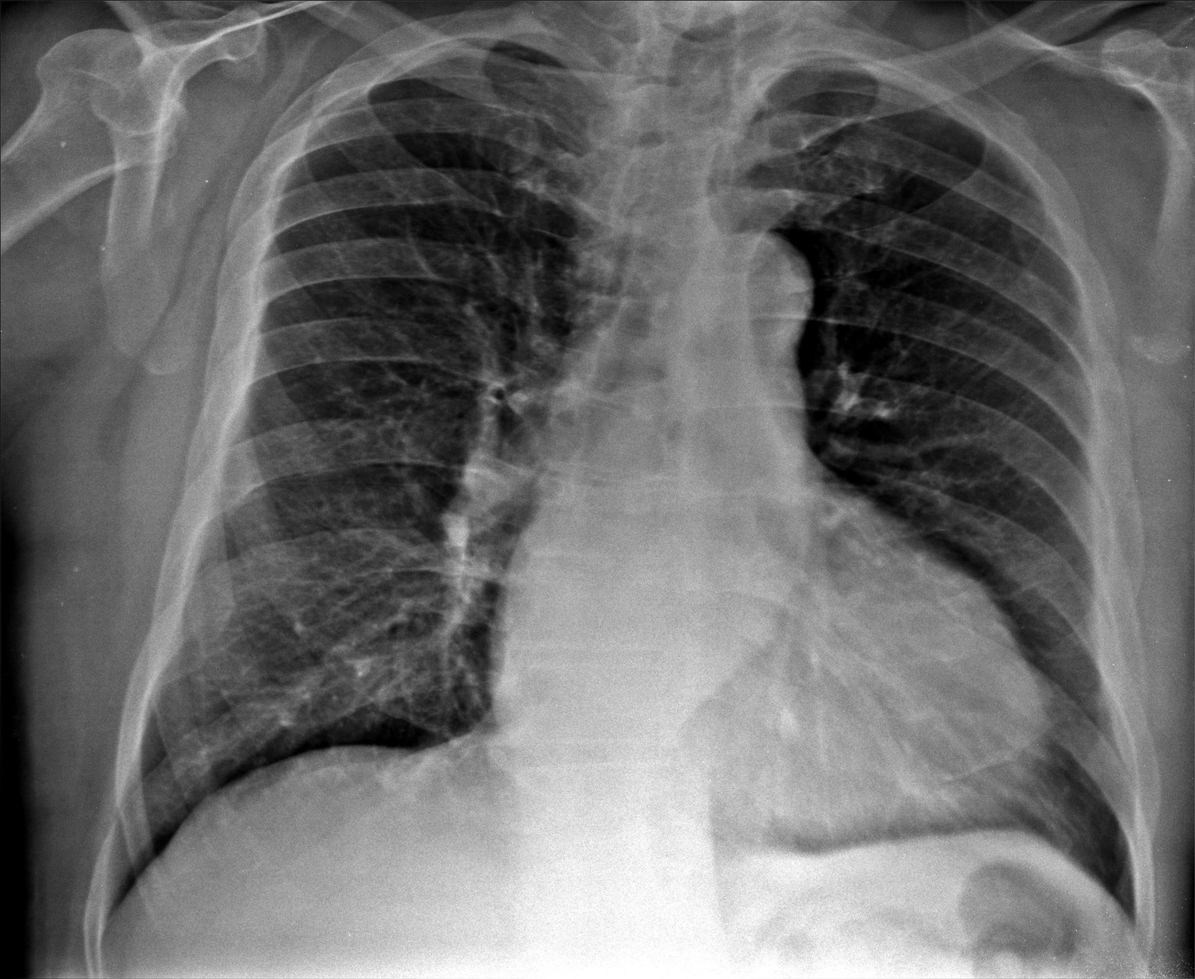Cardiomegaly: (481, 625, 1052, 826)
